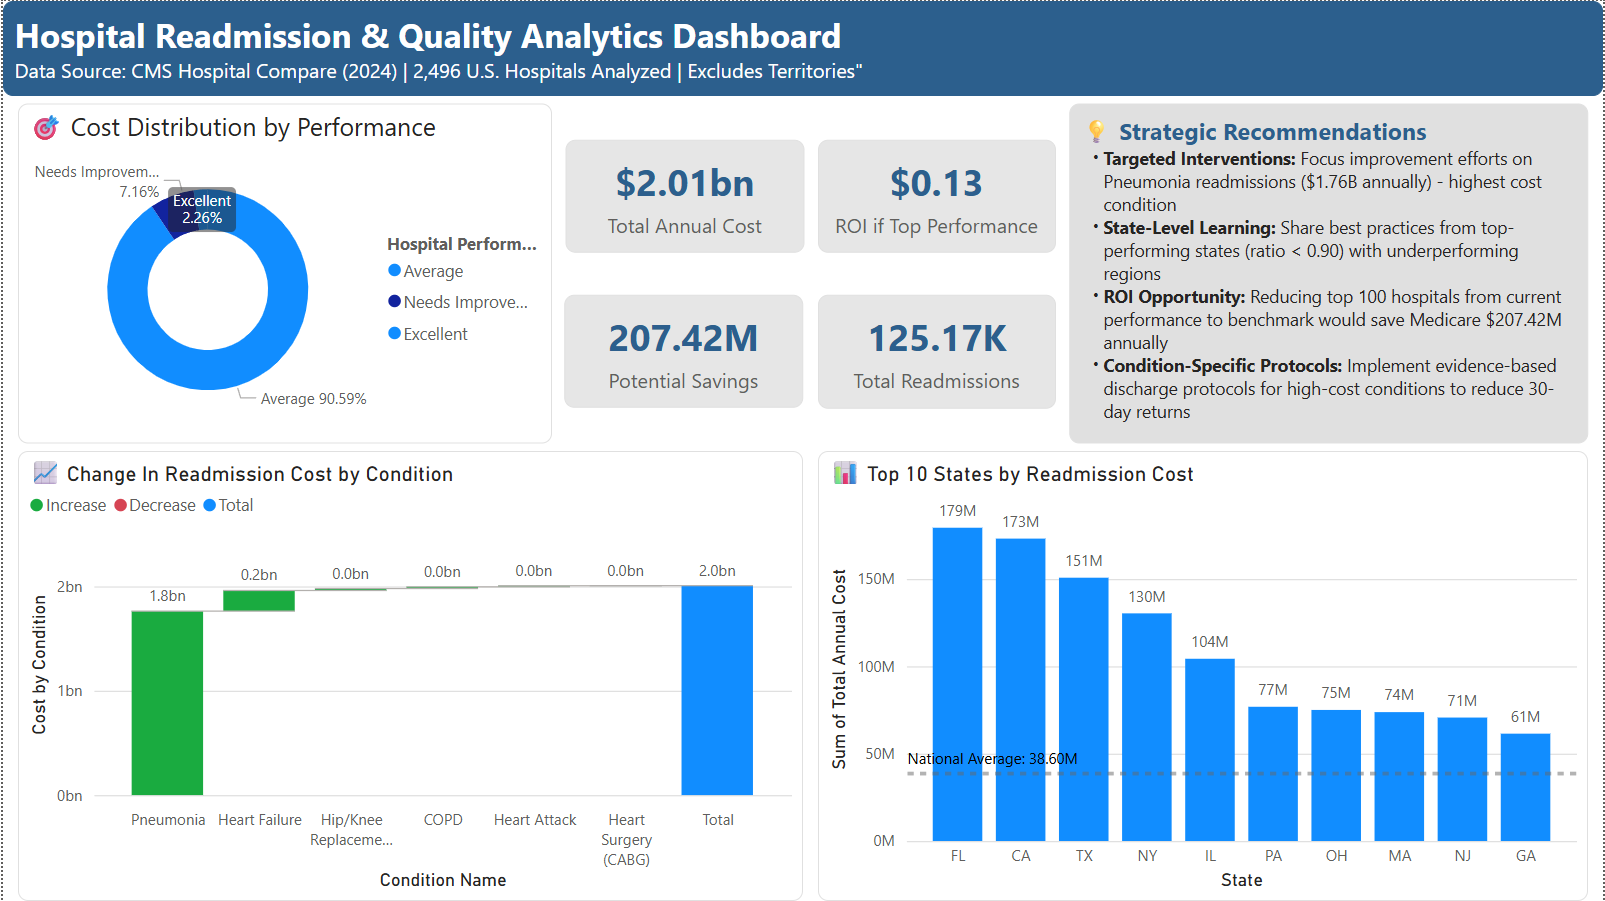

The dashboard page shown, as its layout file describes it:
{"tool":"powerbi","page":{"name":"Financial Impact","canvas":[1280,720],"ordinal":2},"visuals":[{"type":"textbox","box":[0,0,1280,75.9],"z":0},{"type":"card","fields":{"Values":["_Measures.Total Annual Cost"]},"box":[450.4,110.6,190.1,90],"z":1000},{"type":"card","fields":{"Values":["_Measures.ROI if Top Performance"]},"box":[651.6,110.8,190.1,90.5],"z":2000},{"type":"columnChart","title":"📊 Top 10 States by Readmission Cost","fields":{"Category":["Hospital General Info.State"],"Y":["Sum(Hospital General Info.Total Annual Cost)"]},"box":[651.6,360,616.6,360],"z":3000},{"type":"textbox","box":[852.8,82.1,415.3,271.4],"z":4000},{"type":"card","fields":{"Values":["_Measures.Potential Savings"]},"box":[449.5,235.4,190.1,89.5],"z":5000},{"type":"donutChart","title":"🎯 Cost Distribution by Performance","fields":{"Category":["Hospital General Info.Hospital Performance"],"Y":["_Measures.Total Annual Cost"]},"box":[12,82.1,427.3,271.4],"z":6000},{"type":"waterfallChart","title":"📈 Change In Readmission Cost by Condition","fields":{"Y":["_Measures.Cost by Condition"],"Category":["Hospital Readmissions.Condition Name"]},"box":[12,360,627.6,360],"z":7000},{"type":"card","fields":{"Values":["_Measures.Total Readmissions"]},"box":[651.6,235.4,190.1,90.5],"z":8000}]}

Visuals, with their boxes in screenshot pixels (x1, y1, x2, y2), scaled from the page's 1280x720 canvas onto the 1605x901 screenshot:
textbox: <box>0,0,1604,95</box>
card - _Measures.Total Annual Cost: <box>565,138,803,251</box>
card - _Measures.ROI if Top Performance: <box>817,139,1055,252</box>
"📊 Top 10 States by Readmission Cost" columnChart: <box>817,450,1590,900</box>
textbox: <box>1069,103,1590,442</box>
card - _Measures.Potential Savings: <box>564,295,802,407</box>
"🎯 Cost Distribution by Performance" donutChart: <box>15,103,551,442</box>
"📈 Change In Readmission Cost by Condition" waterfallChart: <box>15,450,802,900</box>
card - _Measures.Total Readmissions: <box>817,295,1055,408</box>
